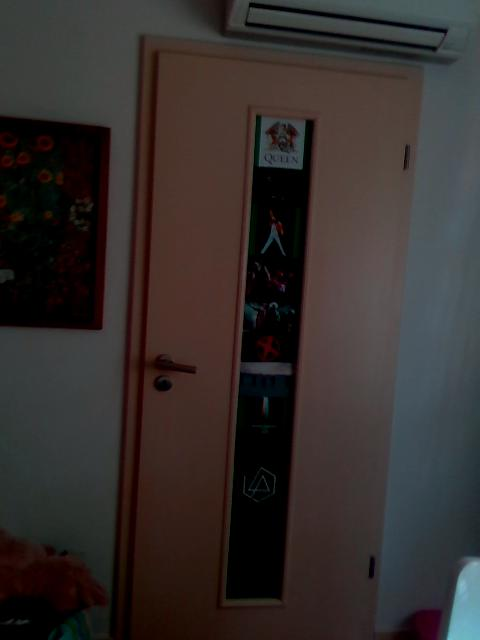closed_door: (115, 34, 422, 639)
